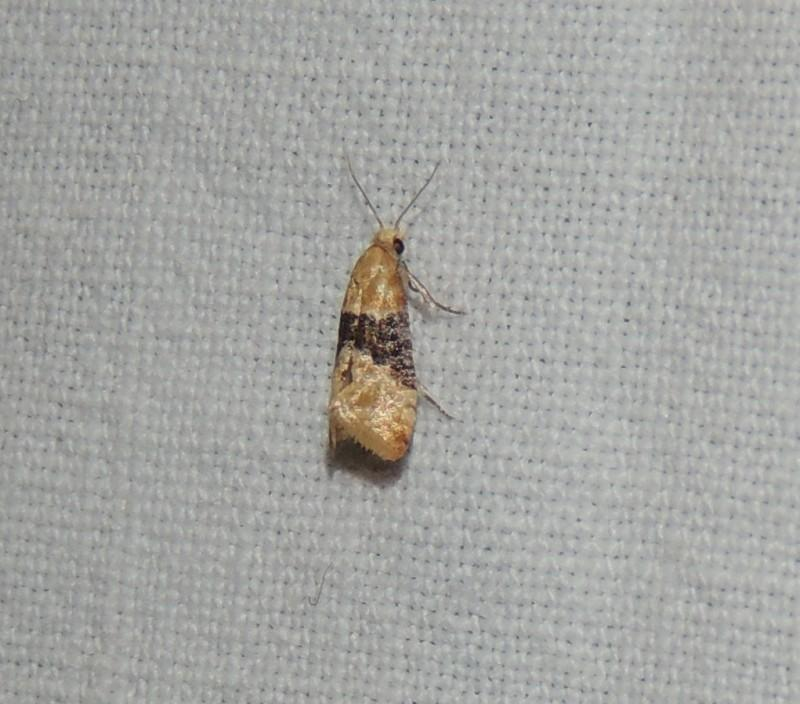Eupoecilia Ambiguella: (322, 143, 468, 470)
